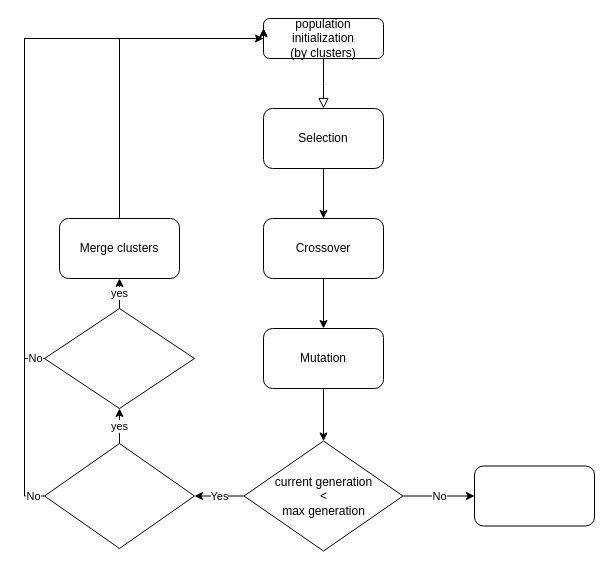
Image size: 612x569. Some labels were removed from this diagram. The shapes that lost their labels are listed below. From the top down, each one's centre as x and y in pixels, then its label:
pixel 119 358: current # of clusters > 1
pixel 119 495: current generation == merge generation
pixel 534 495: Stop
